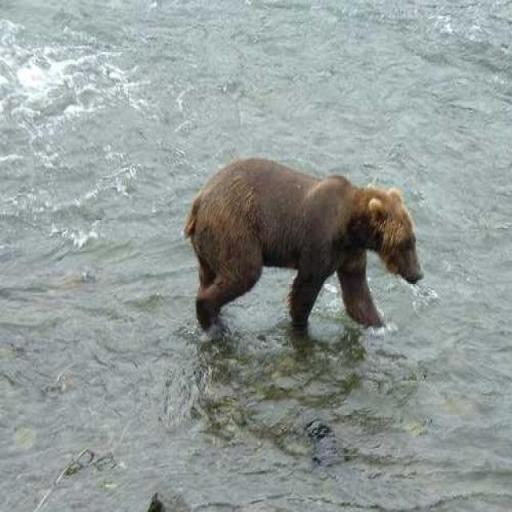Bear: (182, 155, 423, 336)
